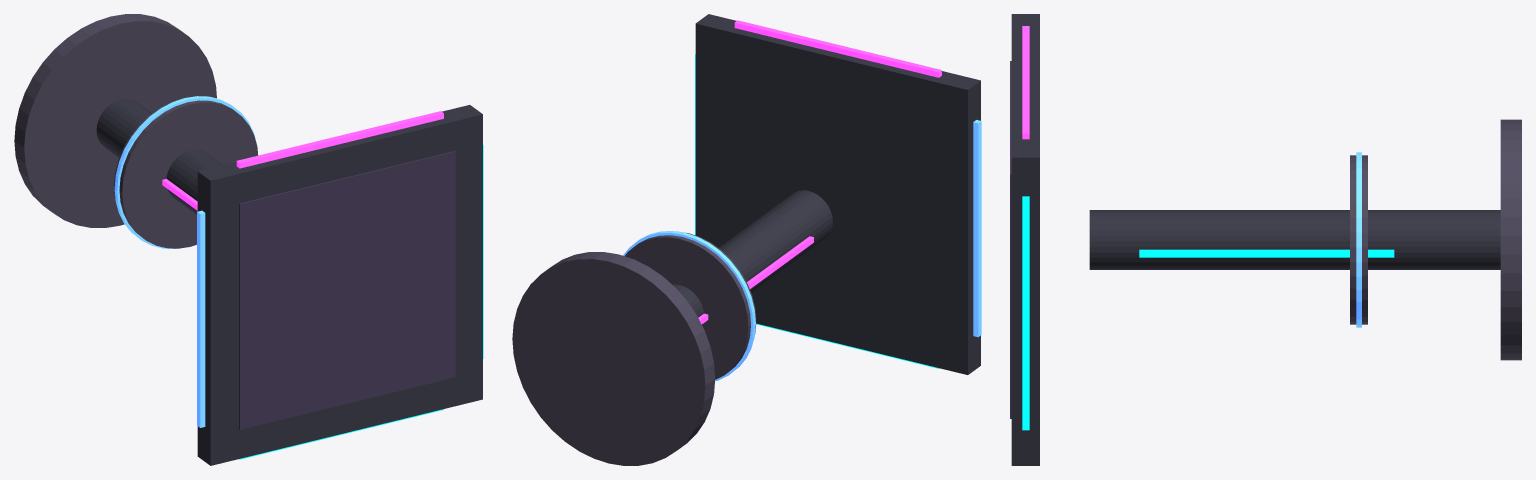
Rendered from square_high_bar_table.glb.
3 renders of one model, left to right at view 1: azimuth 30°, elevation 25°; view 2: azimuth 150°, elevation 25°; view 3: azimuth 270°, elevation 25°, orthographic. The views are drawn at different scales.
Visible parts, largest first — view 1: table_top_inset, table_top_shell, base_disc, footrest_collar, center_pedestal, left_top_trim, rear_top_trim, footrest_trim_band; view 2: table_top_shell, base_disc, footrest_collar, center_pedestal, left_top_trim, rear_top_trim, footrest_trim_band, pedestal_trim_back; view 3: center_pedestal, table_top_shell, base_disc, footrest_collar, pedestal_trim_front, right_top_trim, footrest_trim_band, rear_top_trim, table_top_inset.
Boxes of the visible parts, x1=… form: table_top_inset: x1=239, y1=151, x2=455, y2=429; table_top_shell: x1=197, y1=105, x2=482, y2=465; base_disc: x1=14, y1=14, x2=216, y2=227; footrest_collar: x1=114, y1=96, x2=258, y2=248; center_pedestal: x1=96, y1=98, x2=222, y2=214; left_top_trim: x1=197, y1=210, x2=205, y2=427; rear_top_trim: x1=236, y1=111, x2=443, y2=168; footrest_trim_band: x1=114, y1=96, x2=256, y2=248; table_top_shell: x1=695, y1=14, x2=980, y2=374; base_disc: x1=512, y1=252, x2=715, y2=465; footrest_collar: x1=625, y1=231, x2=756, y2=379; center_pedestal: x1=672, y1=190, x2=832, y2=325; left_top_trim: x1=973, y1=120, x2=981, y2=337; rear_top_trim: x1=734, y1=20, x2=941, y2=77; footrest_trim_band: x1=623, y1=231, x2=755, y2=381; pedestal_trim_back: x1=698, y1=236, x2=813, y2=324; center_pedestal: x1=1089, y1=210, x2=1500, y2=269; table_top_shell: x1=1011, y1=14, x2=1039, y2=465; base_disc: x1=1500, y1=119, x2=1521, y2=360; footrest_collar: x1=1350, y1=155, x2=1367, y2=324; pedestal_trim_front: x1=1139, y1=249, x2=1394, y2=257; right_top_trim: x1=1022, y1=196, x2=1029, y2=430; footrest_trim_band: x1=1356, y1=152, x2=1361, y2=327; rear_top_trim: x1=1022, y1=26, x2=1029, y2=139; table_top_inset: x1=1010, y1=61, x2=1011, y2=418.
Bounding box in the file's own units: 0.998 × 0.998 × 1.45.
